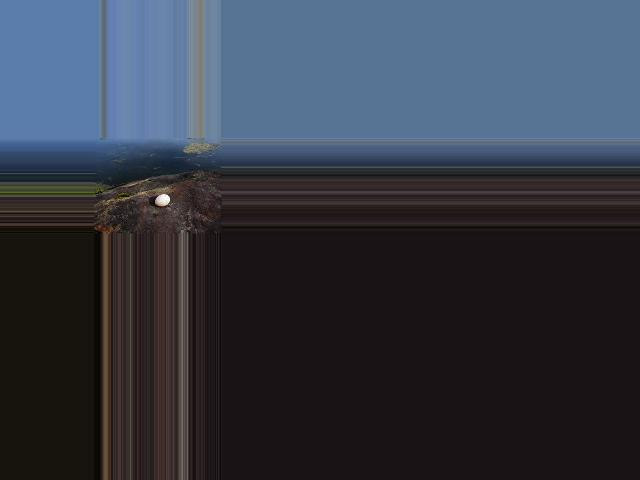egg: (155, 194, 171, 206)
